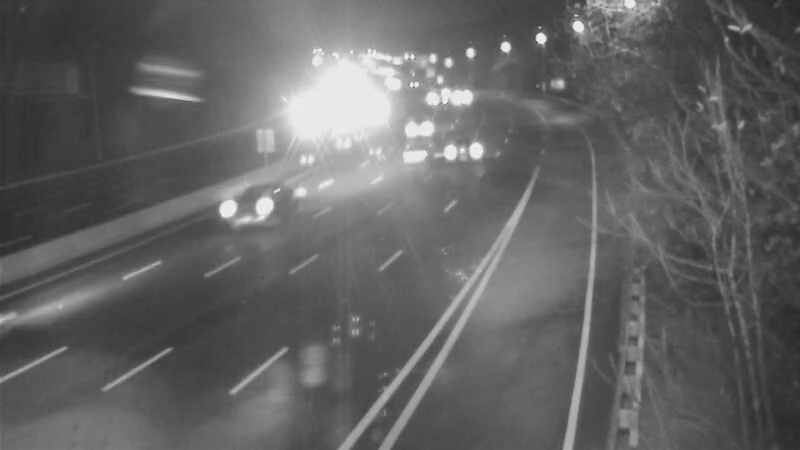vehicle: (415, 117, 495, 197), (205, 162, 285, 242), (396, 95, 446, 145)
